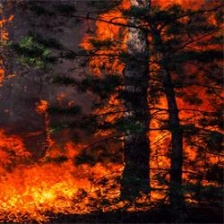fire: (1, 150, 105, 214)
